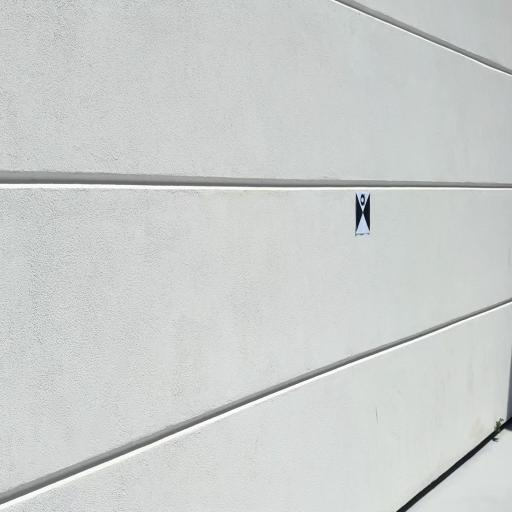target0: (355, 192, 370, 235)
